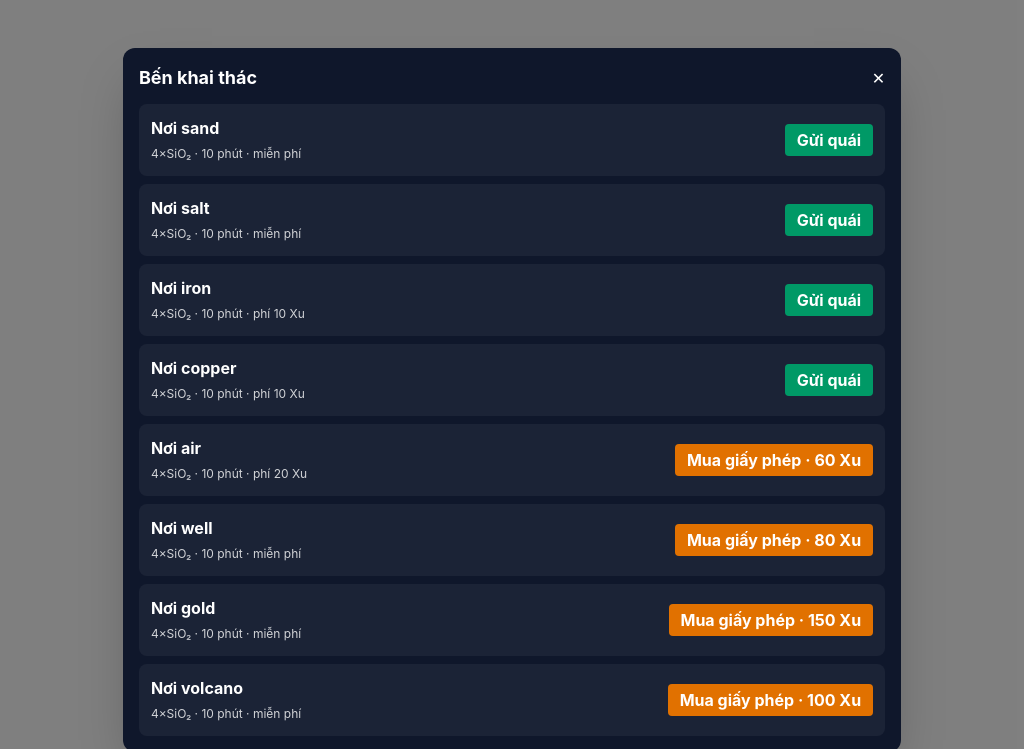
Test case: SLOTS_FULL shows its own message
What coordinates should you click on to do the following:
click the button "Gửi quái" in the row of "Nơi sand"
I would click on:
 (829, 140)
Its box is x1=785 y1=124 x2=873 y2=156.
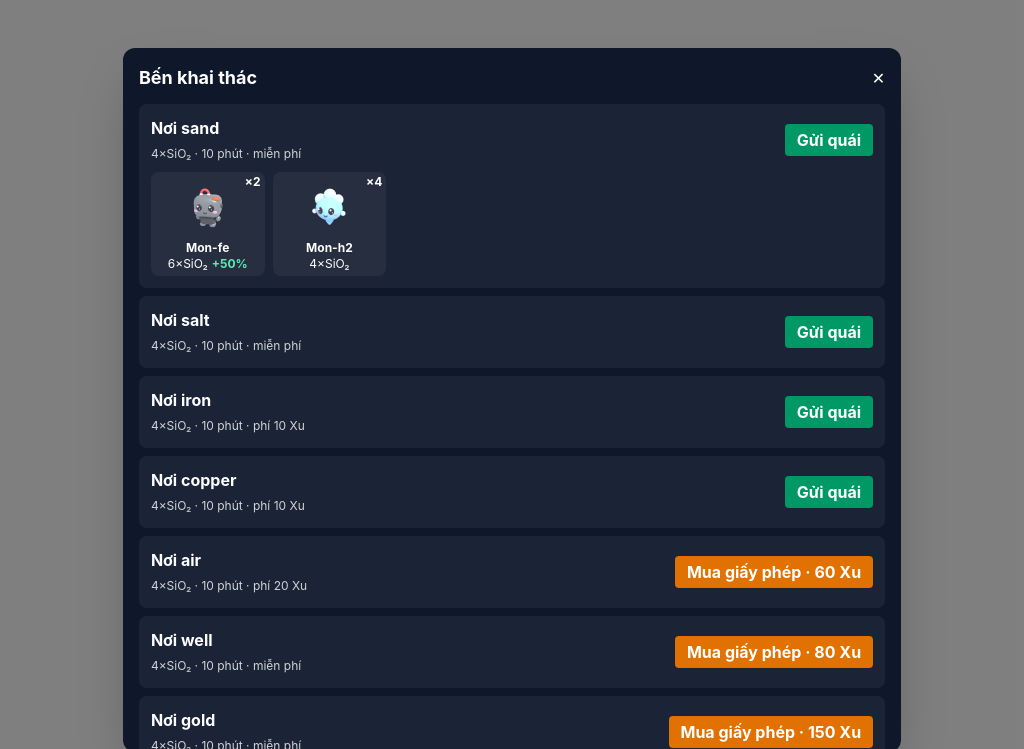
What coordinates should you click on to do the following:
click the button with test id "pick-h2"
I would click on:
 (329, 224)
Its box is x1=273 y1=172 x2=386 y2=276.
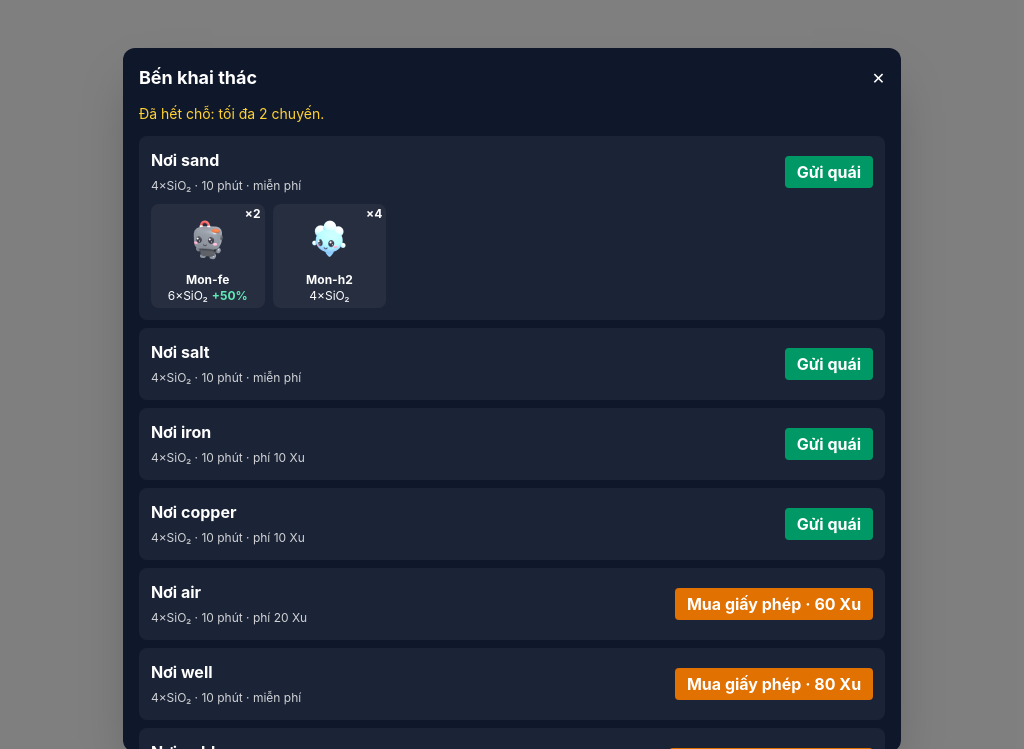
Now the message reads "Đã hết chỗ: tối đa 2 chuyến.", box x1=139 y1=105 x2=324 y2=122
